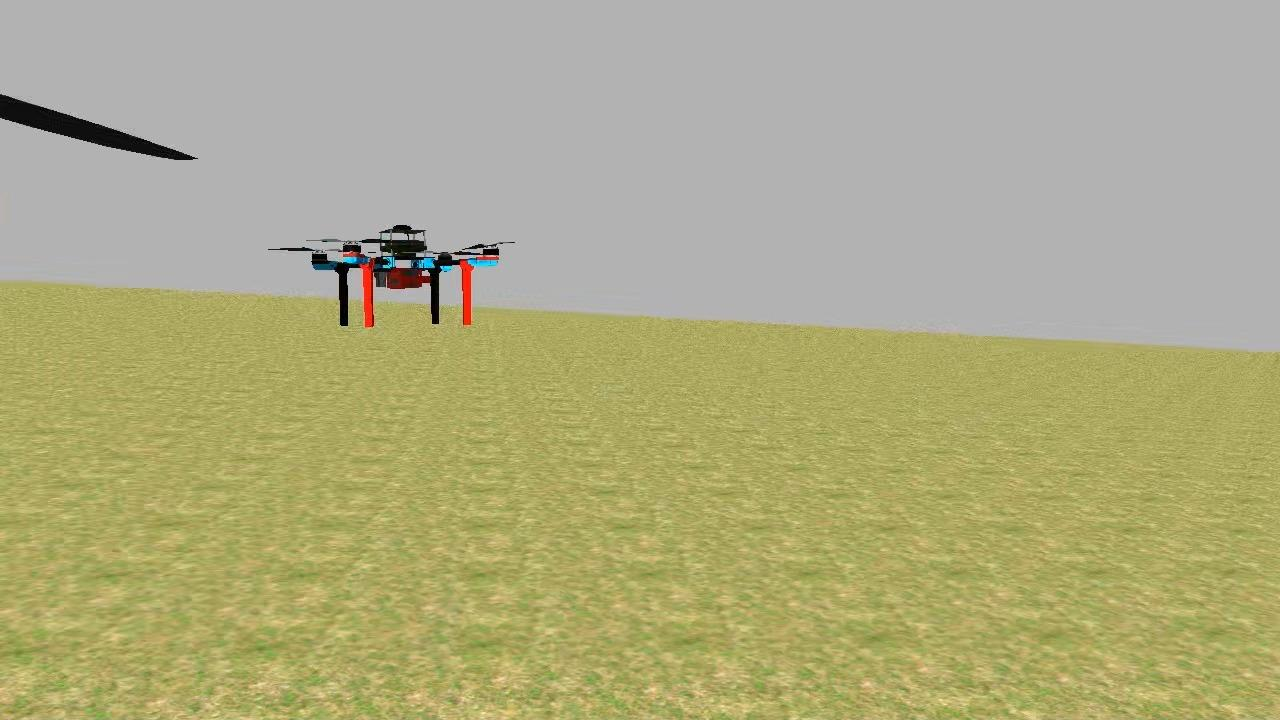UAV: (306, 220, 506, 338)
